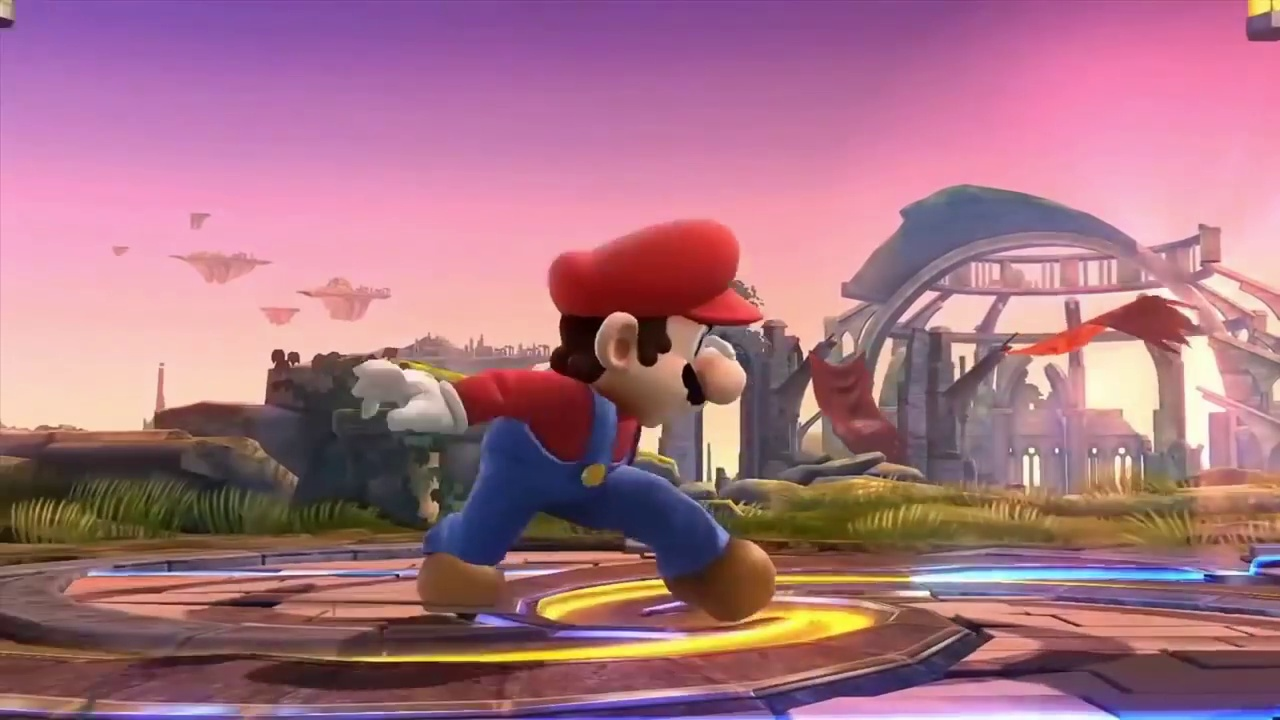Mario: (354, 221, 774, 620)
